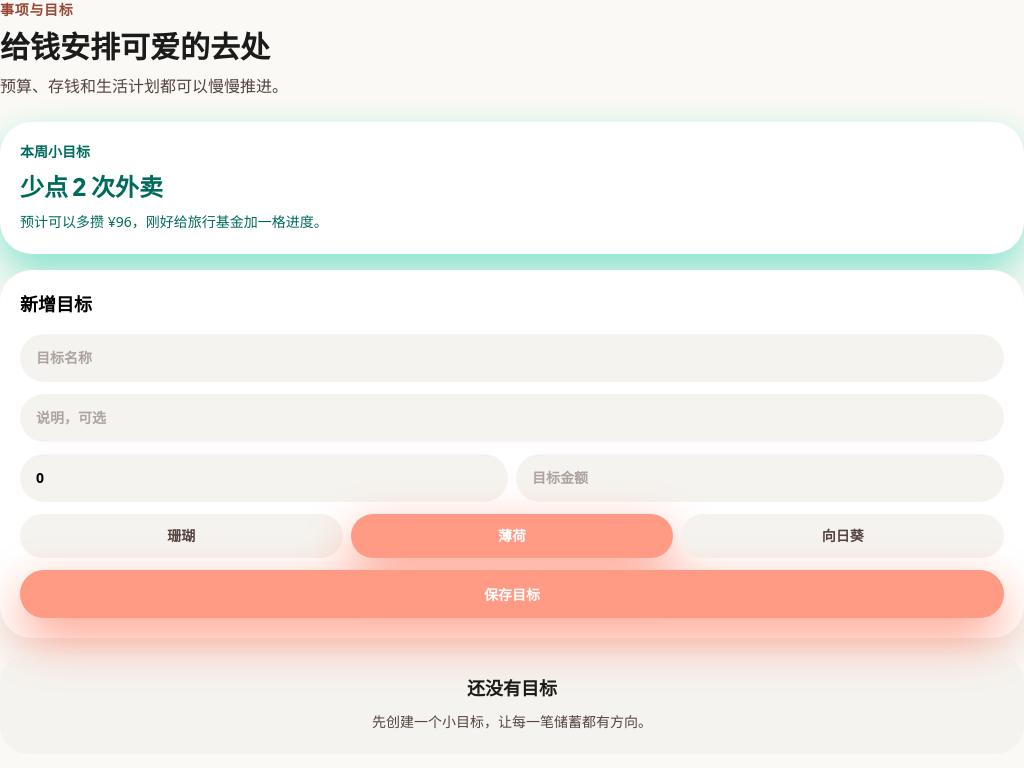
Test: GoalsPage › validates goal target amount
Type "旅行" into the field labelled "目标名称" at (512, 358), box [20, 334, 1004, 382]
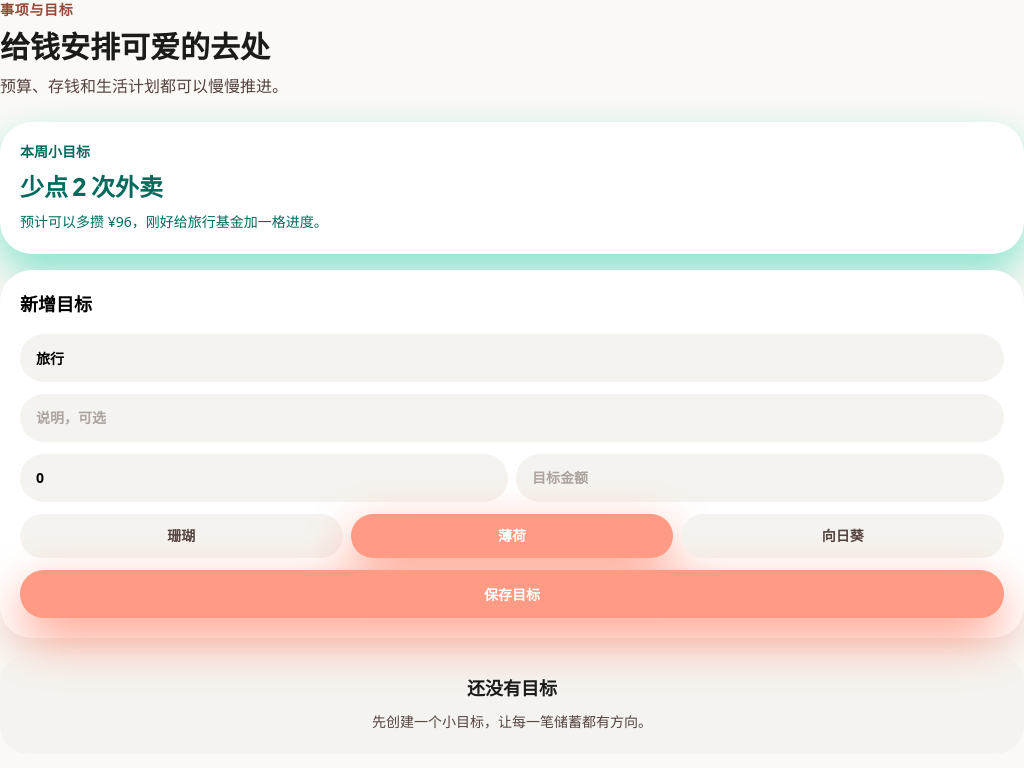
Type "0" into the field labelled "目标金额" at (760, 478), box [516, 454, 1004, 502]
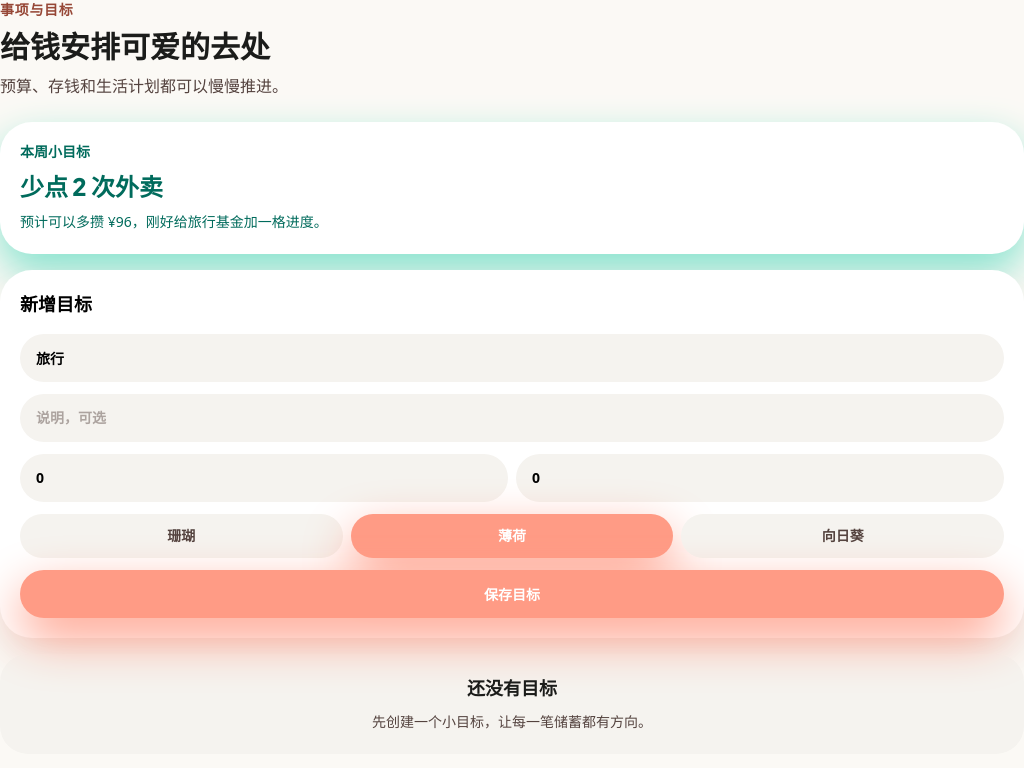
Click the button "保存目标" at (512, 594), box [20, 570, 1004, 618]
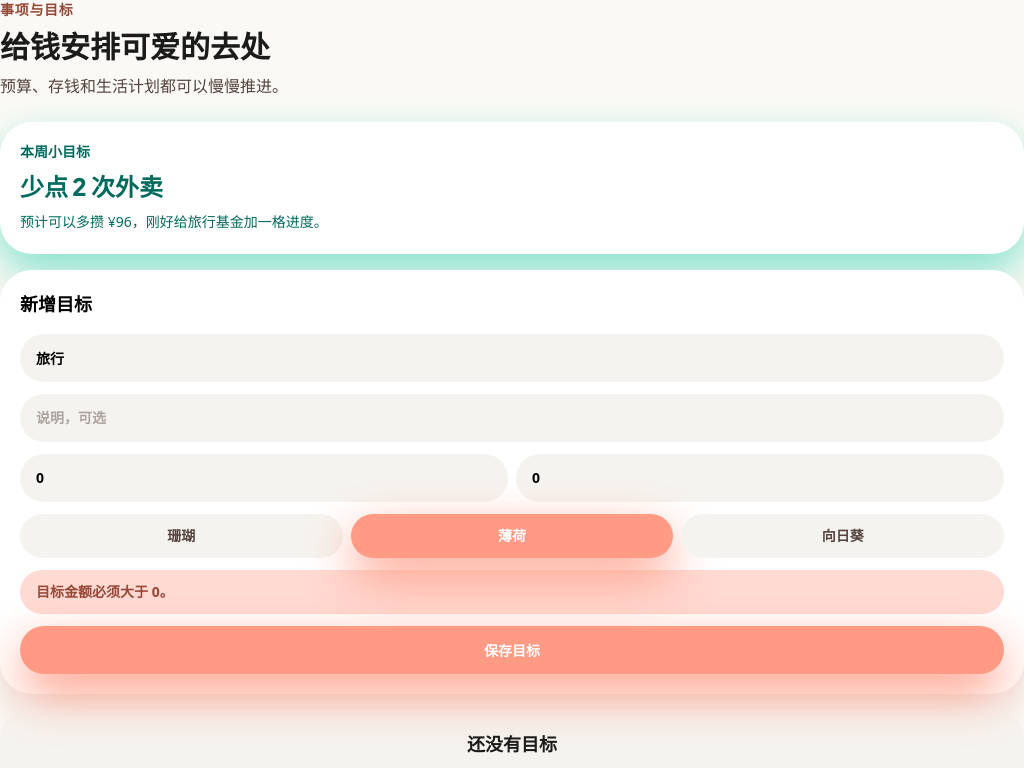
Result: the text "目标金额必须大于 0。" is shown at [20, 570, 1004, 614]
